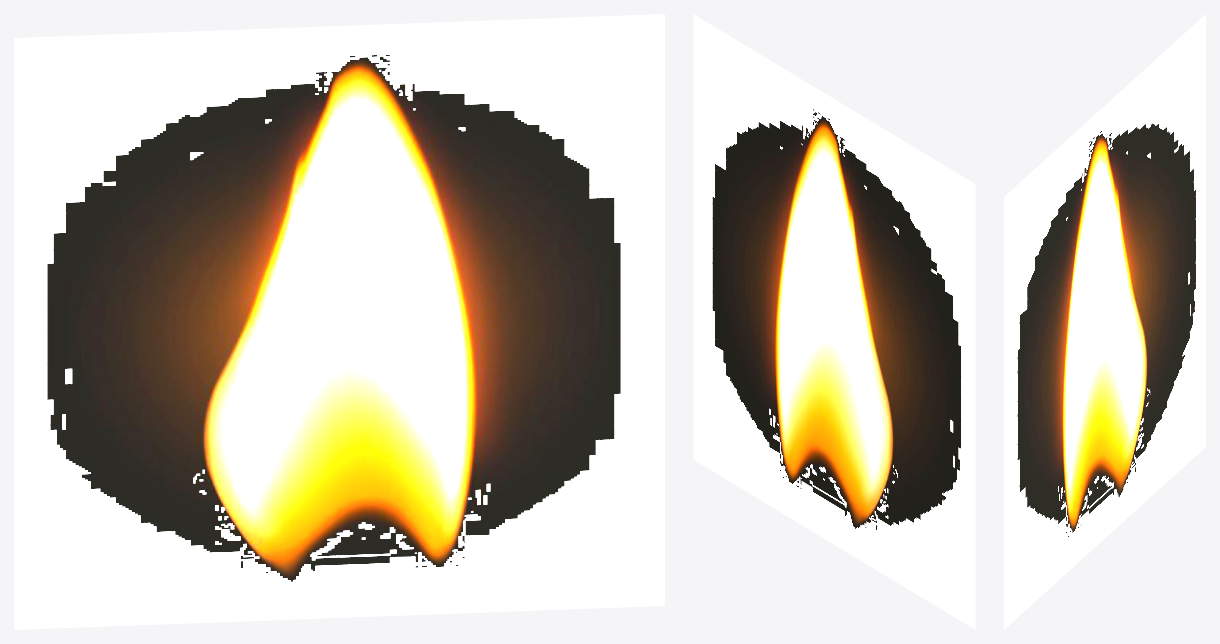
3 renders of one model, left to right at view 1: azimuth 30°, elevation 25°; view 2: azimuth 150°, elevation 25°; view 3: azimuth 270°, elevation 25°, orthographic. The views are drawn at different scales.
Parts seen in each view (by area): view 1: _268; view 2: _268; view 3: _268.
Part boxes in pixels (x1,y1,x2,y2): _268: (14, 14, 664, 629); _268: (693, 14, 975, 629); _268: (1004, 14, 1205, 629).
Size of the model in its own units: 10.16 by 11.21 by 4.74.
